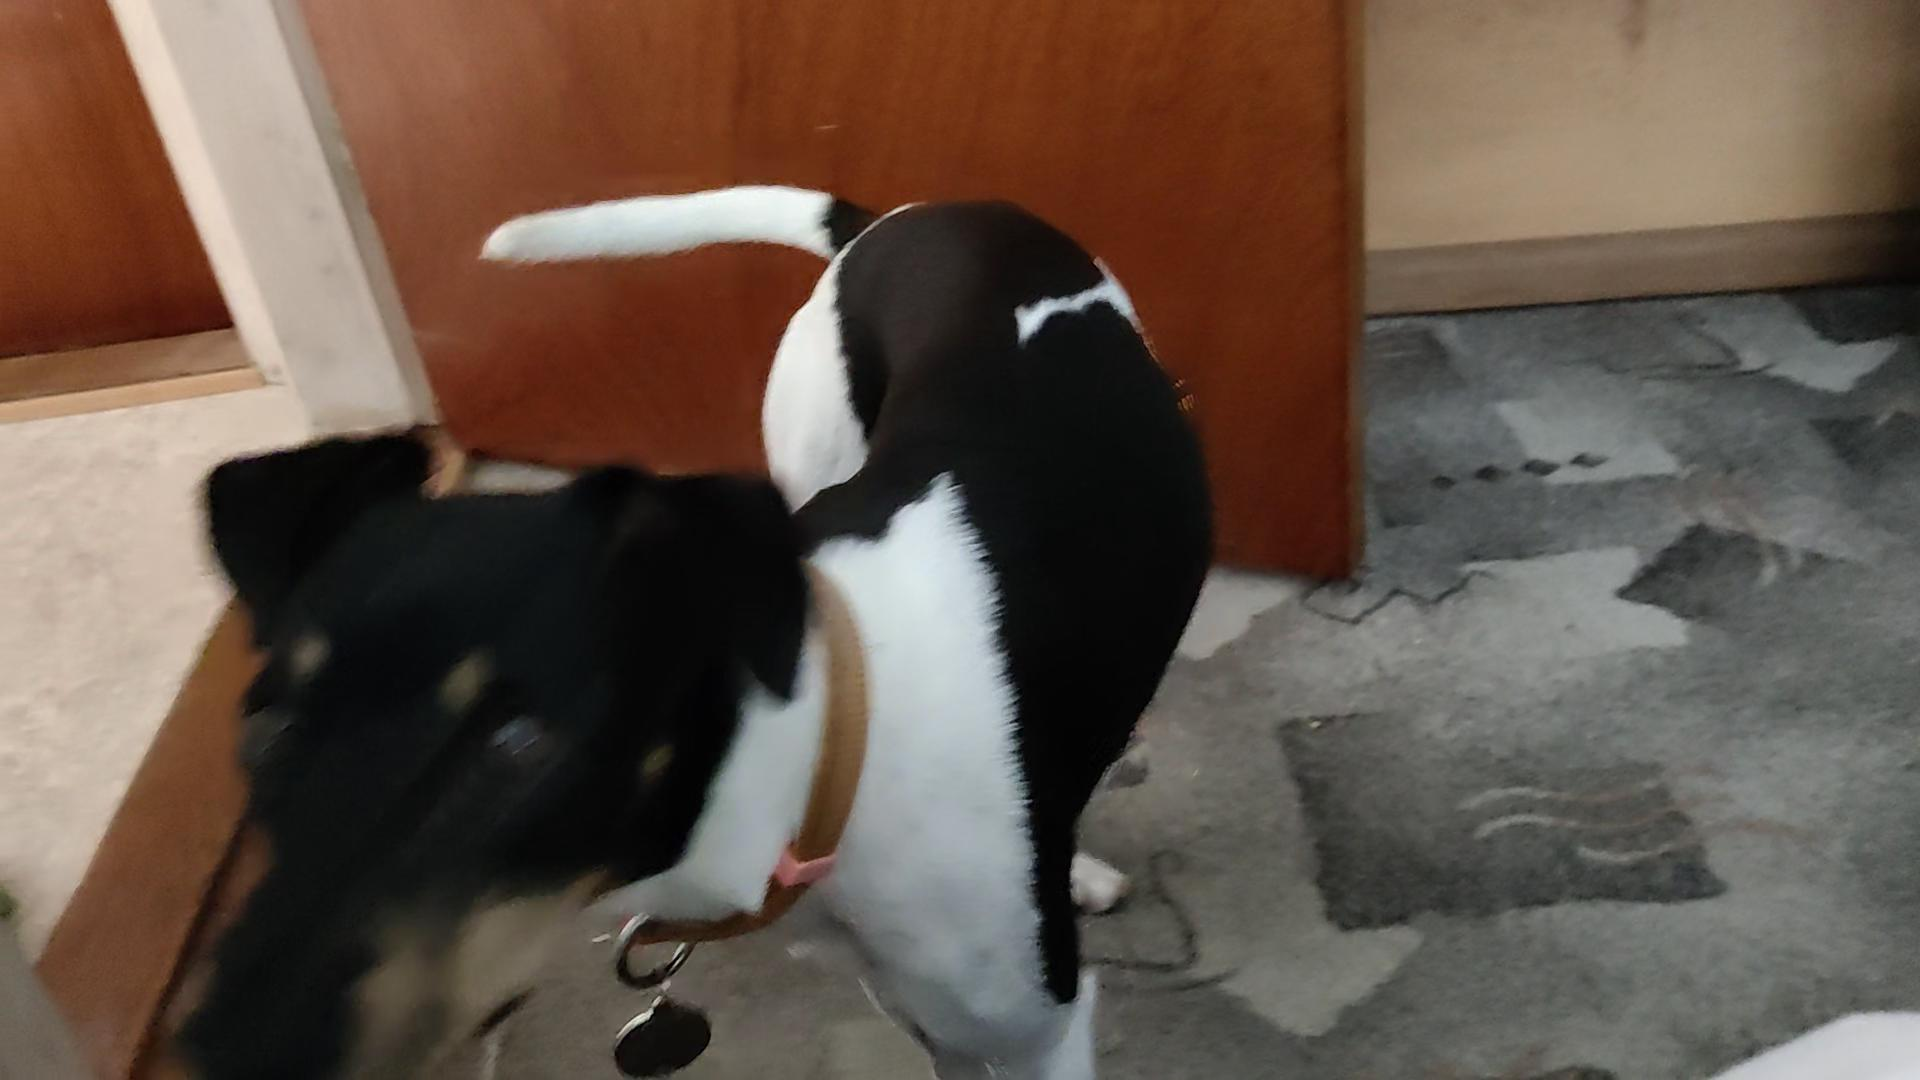Dog: (145, 161, 1258, 1079)
